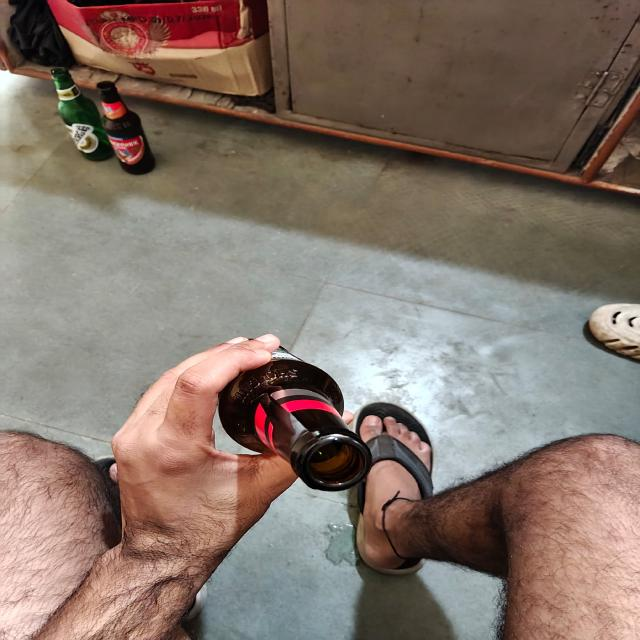Alcohol-Bottle-Detection: (226, 372, 364, 488), (38, 76, 168, 195)
